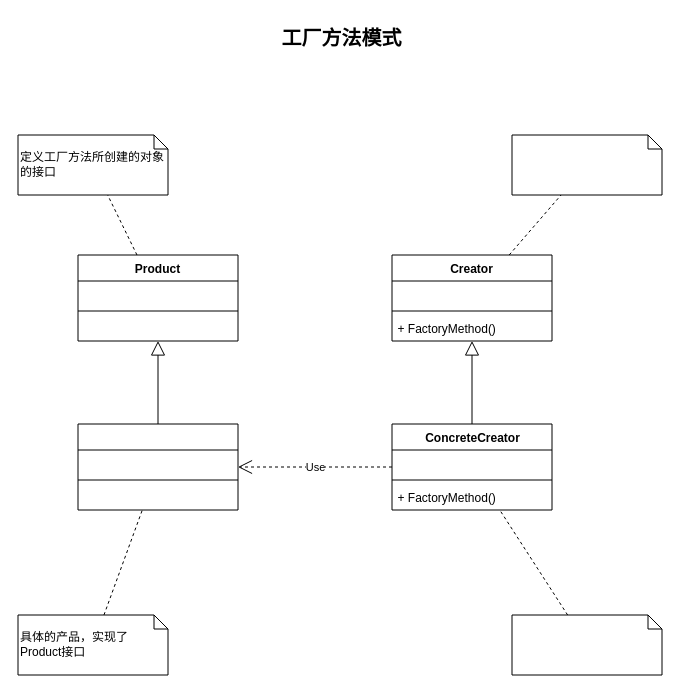
The diagram is 679 pixels wide and 692 high, and some of its shapes have lost their labels. The shapes that lost their labels are listed below. From the top down, each one's centre as x and y in pixels, then its label:
(x=586, y=164): 声明工厂方法，该方法返回一个Product类型的对象
(x=157, y=466): ConcreteProduct
(x=586, y=644): 重定义工厂方法以返回一个ConcreteCreator实例
